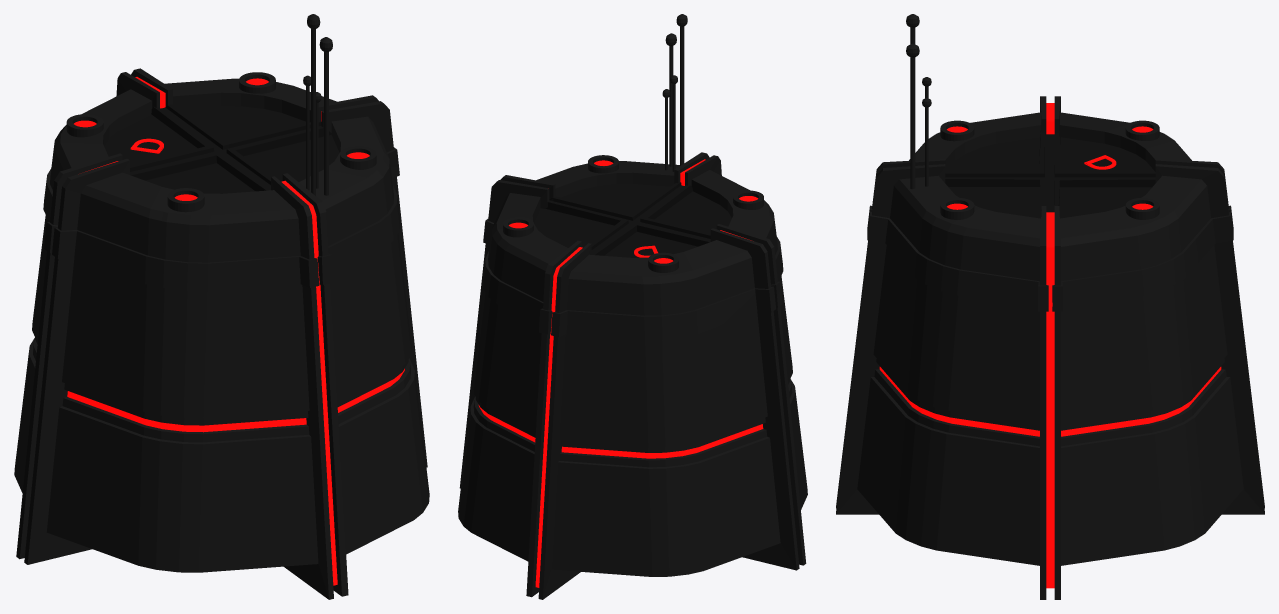
The model's file is drone_builder.glb.
3 views of the same model, side by side, from view 1: azimuth 30°, elevation 25°; view 2: azimuth 150°, elevation 25°; view 3: azimuth 270°, elevation 25° (orthographic). The views are drawn at different scales.
Visible parts, largest first — view 1: Drone_Builder, Light_02, Door_Top_Right, Door_Top_Left, Door_Bottom_Right, Door_Bottom_Left, Drone_Builder_Lvl_2, Antenna_Small_002, Spot_Light_01, Spot_Light_03, Spot_Light_02, Spot_Light_04; view 2: Drone_Builder, Light_02, Door_Top_Right, Door_Bottom_Right, Door_Bottom_Left, Door_Top_Left, Drone_Builder_Lvl_2, Antenna_Small_002, Spot_Light_02, Spot_Light_04; view 3: Drone_Builder, Light_02, Door_Bottom_Left, Door_Bottom_Right, Door_Top_Right, Door_Top_Left, Antenna_Small_002, Spot_Light_04, Spot_Light_03.
Part boxes in pixels (x1=…): Drone_Builder: x1=14, y1=68, x2=429, y2=599; Light_02: x1=67, y1=77, x2=404, y2=585; Door_Top_Right: x1=161, y1=104, x2=321, y2=152; Door_Top_Left: x1=104, y1=107, x2=218, y2=173; Door_Bottom_Right: x1=221, y1=126, x2=339, y2=188; Door_Bottom_Left: x1=130, y1=152, x2=270, y2=193; Drone_Builder_Lvl_2: x1=307, y1=14, x2=320, y2=195; Antenna_Small_002: x1=319, y1=37, x2=332, y2=195; Spot_Light_01: x1=167, y1=188, x2=204, y2=212; Spot_Light_03: x1=340, y1=146, x2=376, y2=169; Spot_Light_02: x1=66, y1=114, x2=103, y2=137; Spot_Light_04: x1=239, y1=72, x2=275, y2=93; Drone_Builder: x1=458, y1=152, x2=807, y2=599; Light_02: x1=478, y1=159, x2=763, y2=587; Door_Top_Right: x1=534, y1=200, x2=633, y2=253; Door_Bottom_Right: x1=549, y1=182, x2=684, y2=222; Door_Bottom_Left: x1=636, y1=185, x2=731, y2=240; Door_Top_Left: x1=591, y1=222, x2=710, y2=257; Drone_Builder_Lvl_2: x1=676, y1=14, x2=687, y2=165; Antenna_Small_002: x1=665, y1=33, x2=676, y2=166; Spot_Light_02: x1=648, y1=252, x2=678, y2=272; Spot_Light_04: x1=503, y1=217, x2=533, y2=237; Drone_Builder: x1=836, y1=96, x2=1264, y2=599; Light_02: x1=879, y1=103, x2=1221, y2=588; Door_Bottom_Left: x1=945, y1=130, x2=1049, y2=179; Door_Bottom_Right: x1=945, y1=177, x2=1050, y2=218; Door_Top_Right: x1=1050, y1=177, x2=1155, y2=218; Door_Top_Left: x1=1050, y1=131, x2=1155, y2=178; Antenna_Small_002: x1=906, y1=43, x2=919, y2=189; Spot_Light_04: x1=1125, y1=197, x2=1159, y2=219; Spot_Light_03: x1=940, y1=197, x2=974, y2=219.
Bounding box in the file's own units: 9.28 × 12.15 × 9.39.
